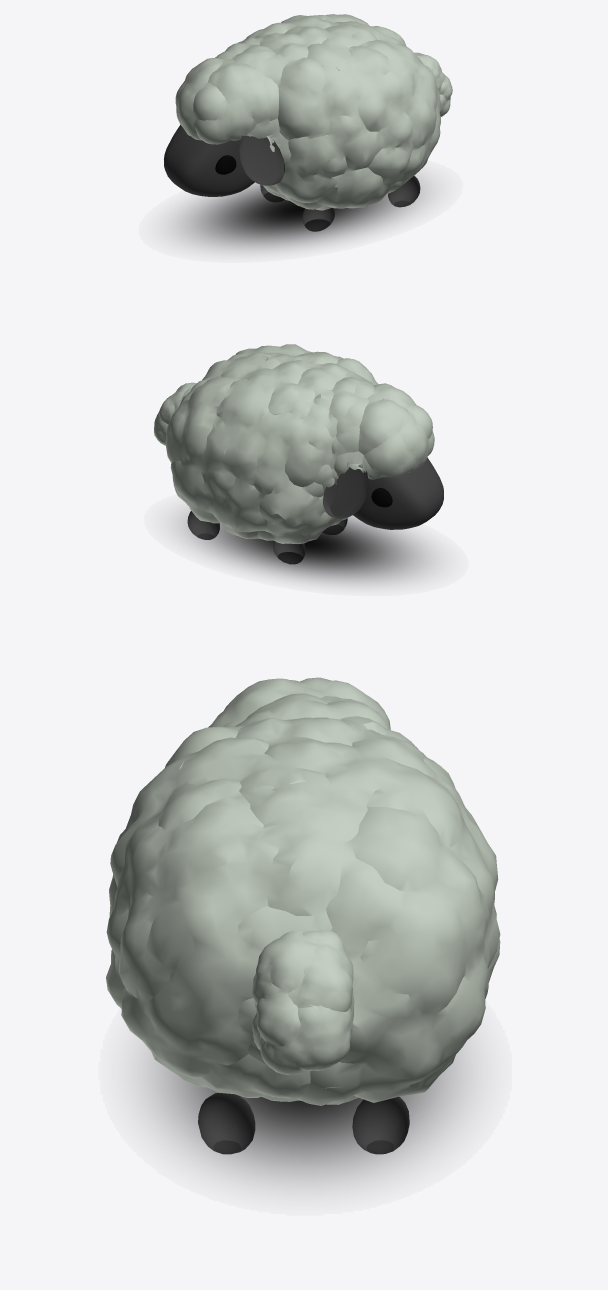
The model's file is sheep.glb.
3 renders of one model, top to bottom at view 1: azimuth 30°, elevation 25°; view 2: azimuth 150°, elevation 25°; view 3: azimuth 270°, elevation 25°, orthographic. The views are drawn at different scales.
Visible parts, largest first — view 1: sheep, shadow, sheep-bare, tail; view 2: sheep, shadow, sheep-bare, tail; view 3: sheep, shadow, tail, sheep-bare.
Boxes of the visible parts, x1=… form: sheep: x1=175, y1=14, x2=441, y2=210; shadow: x1=174, y1=178, x2=427, y2=250; sheep-bare: x1=164, y1=124, x2=420, y2=231; tail: x1=414, y1=52, x2=452, y2=116; sheep: x1=165, y1=344, x2=434, y2=543; shadow: x1=179, y1=511, x2=432, y2=584; sheep-bare: x1=187, y1=457, x2=443, y2=564; tail: x1=154, y1=382, x2=196, y2=445; sheep: x1=106, y1=677, x2=500, y2=1105; shadow: x1=144, y1=1047, x2=467, y2=1183; tail: x1=252, y1=930, x2=354, y2=1074; sheep-bare: x1=198, y1=1092, x2=409, y2=1154.
Size of the model in its own units: 5.91 by 2.39 by 3.6.
4 materials, 1 textured.
